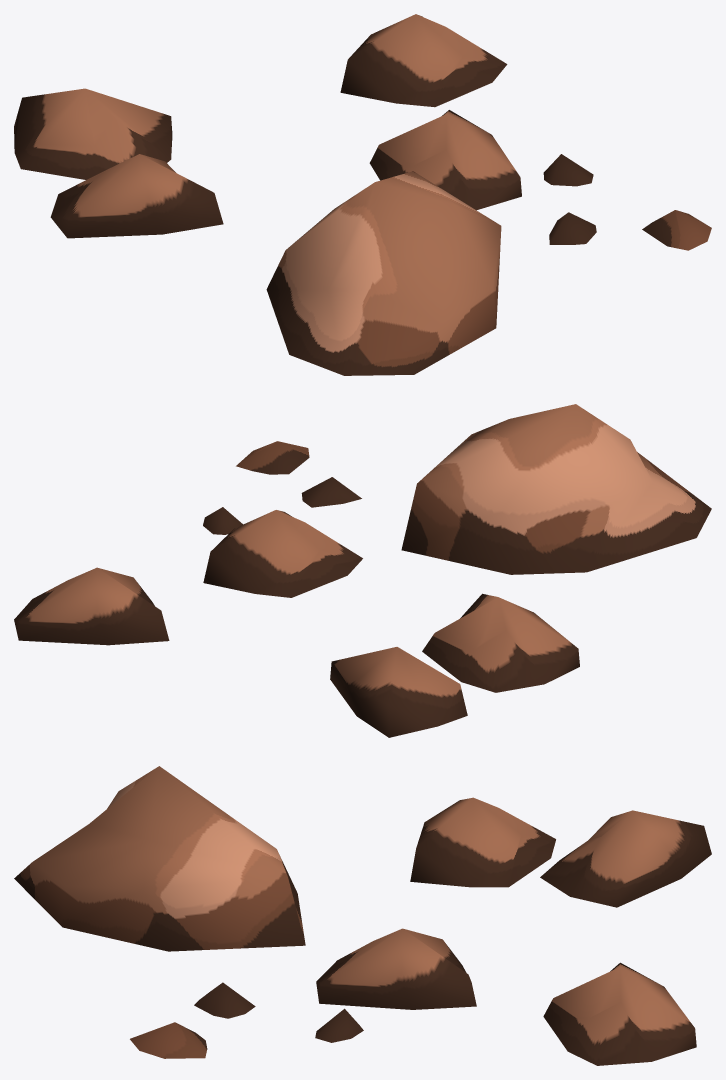
Rendered from Rock 2x 2 8_preview_3DS_simplified.glb.
The picture shows the model from 3 angles, top to bottom: view 1: azimuth 30°, elevation 25°; view 2: azimuth 150°, elevation 25°; view 3: azimuth 270°, elevation 25°; orthographic projection. The views are drawn at different scales.
Visible parts, largest first — view 1: Marine Park Empire model; view 2: Marine Park Empire model; view 3: Marine Park Empire model.
Part boxes in pixels (bbox=[...]): Marine Park Empire model: bbox=[14, 14, 711, 375]; Marine Park Empire model: bbox=[14, 404, 711, 737]; Marine Park Empire model: bbox=[14, 766, 711, 1065].
Size of the model in its own units: 47.54 by 11.69 by 57.
Materials: 1 (1 with a texture image).
